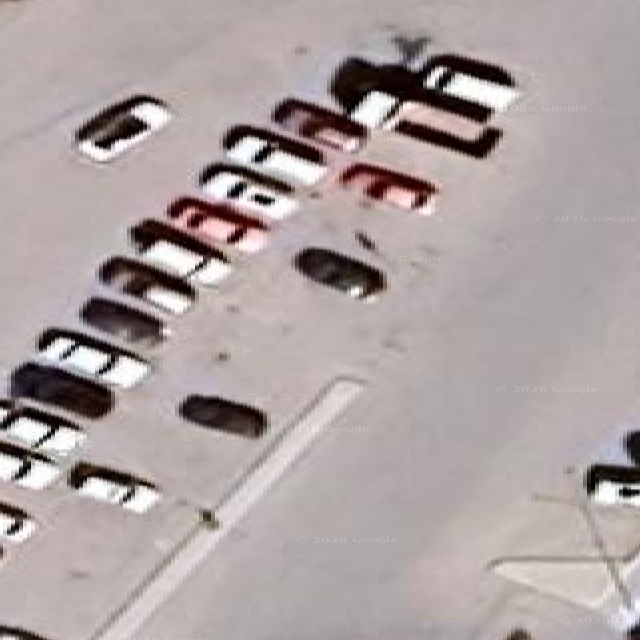car: (37, 328, 150, 387), (129, 220, 232, 284), (223, 125, 326, 184), (76, 96, 169, 160), (167, 196, 267, 252), (11, 362, 111, 417), (98, 256, 196, 312), (200, 163, 296, 219), (272, 100, 367, 151), (293, 247, 384, 300), (340, 163, 435, 213), (68, 463, 160, 512), (0, 400, 84, 453), (81, 296, 167, 346), (179, 395, 267, 436), (0, 442, 60, 488), (587, 464, 639, 506), (0, 503, 35, 543), (0, 624, 43, 639), (624, 623, 639, 639)
